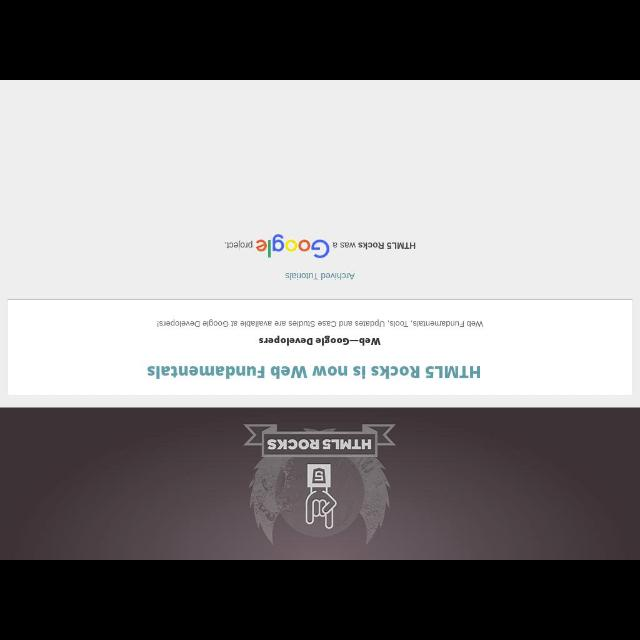image: (243, 422, 394, 546), (255, 234, 329, 258)
text: (148, 364, 482, 381), (156, 320, 484, 328), (257, 336, 381, 346), (332, 241, 416, 251), (286, 272, 354, 280), (225, 240, 253, 250)
